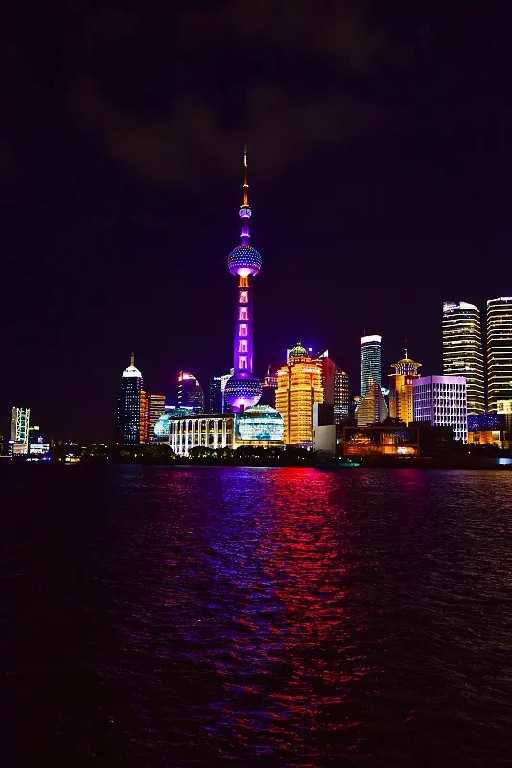Oriental: (224, 144, 262, 424)
